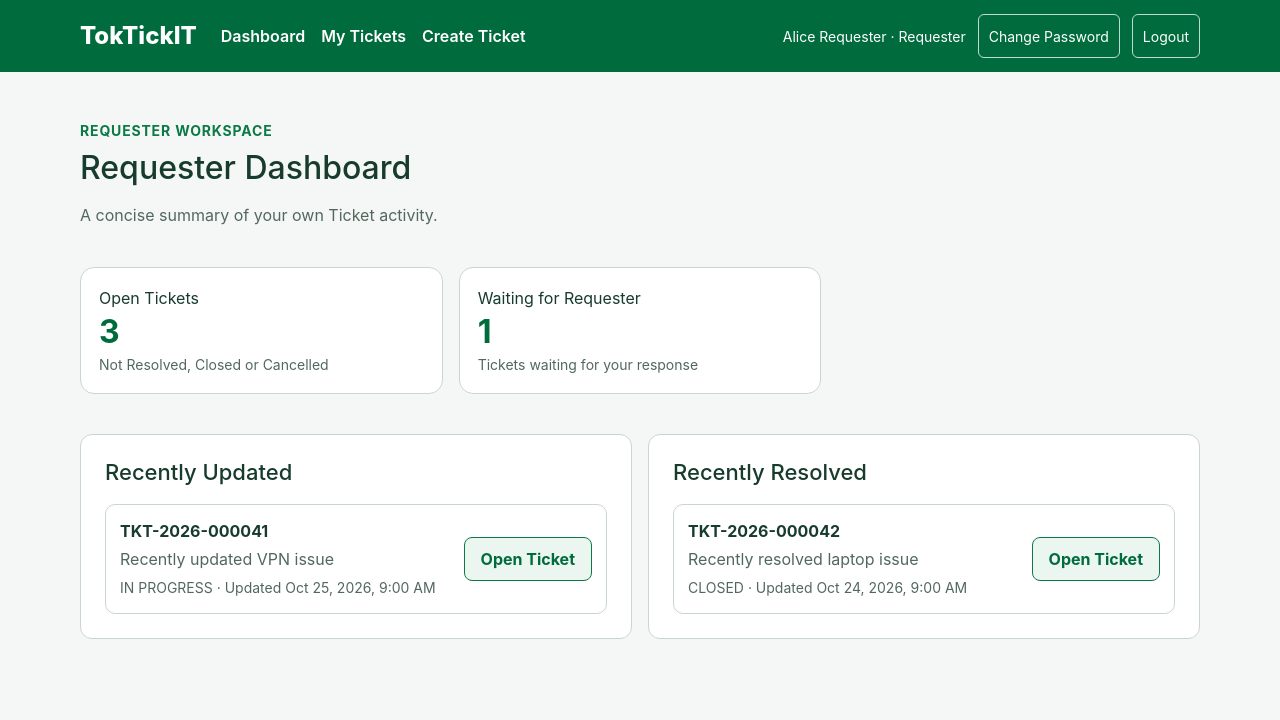
Test case: Lab 4 Requester Dashboard UI › drills metric cards into My Tickets with the contracted backend filters
Click the button "Waiting for Requester 1 Tickets waiting for your response" at [559, 298], box [459,267,821,394]
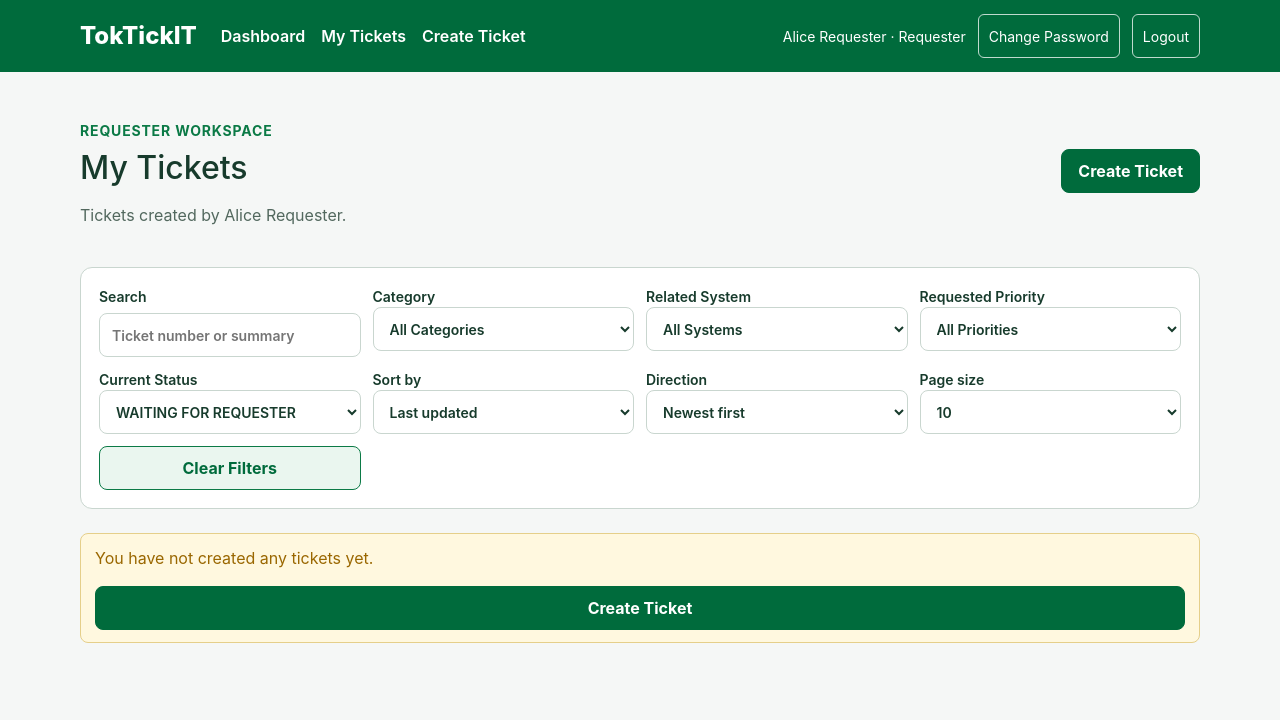
Expected: the heading "My Tickets" is shown, [80,148,248,187]
